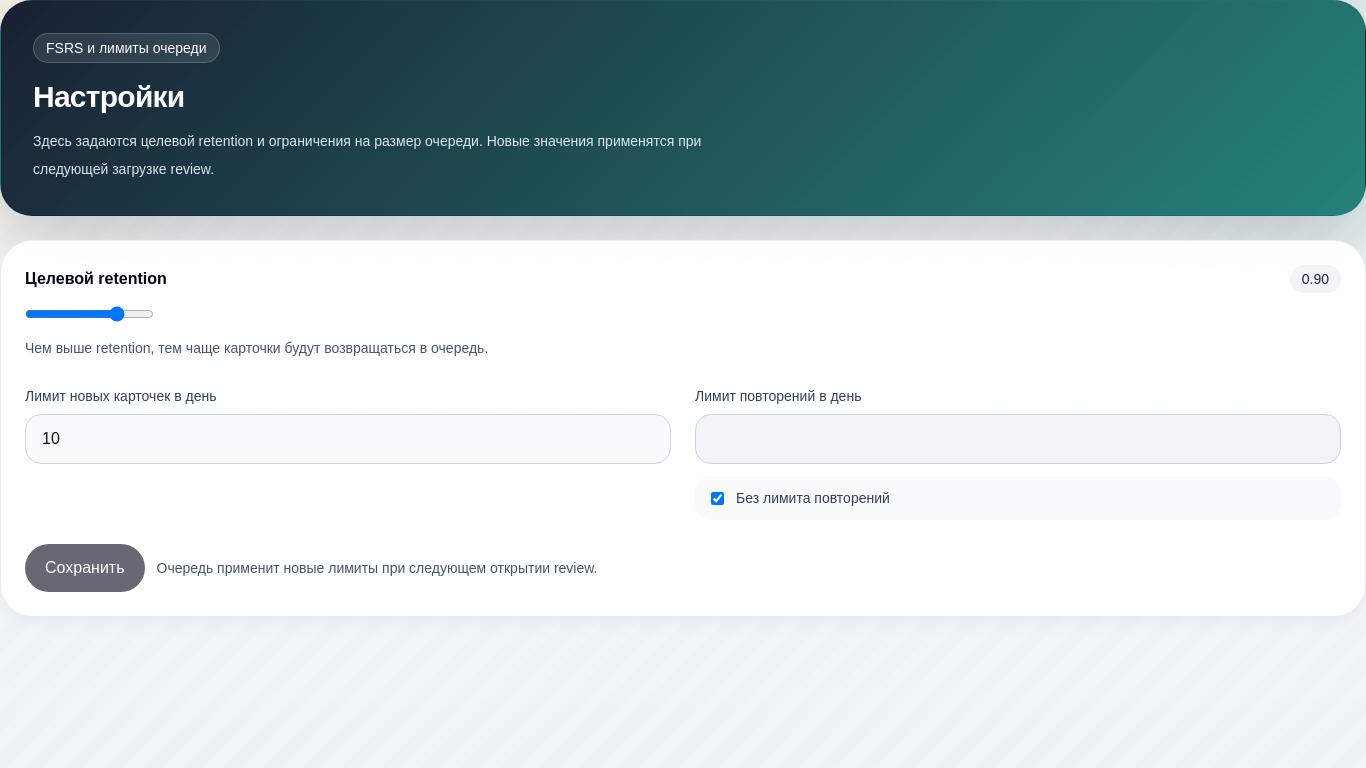
Test: SettingsPage › loads current settings and saves edited values
The width and height of the screenshot is (1366, 768).
Expected: the heading "Настройки" is shown, [33,80,184,113]
Expected: the button "Сохранить" is disabled, [25,544,144,592]
Replace the text in the number field labelled "Лимит новых карточек в день" with "4". click: (348, 439)
box: [25,414,671,464]
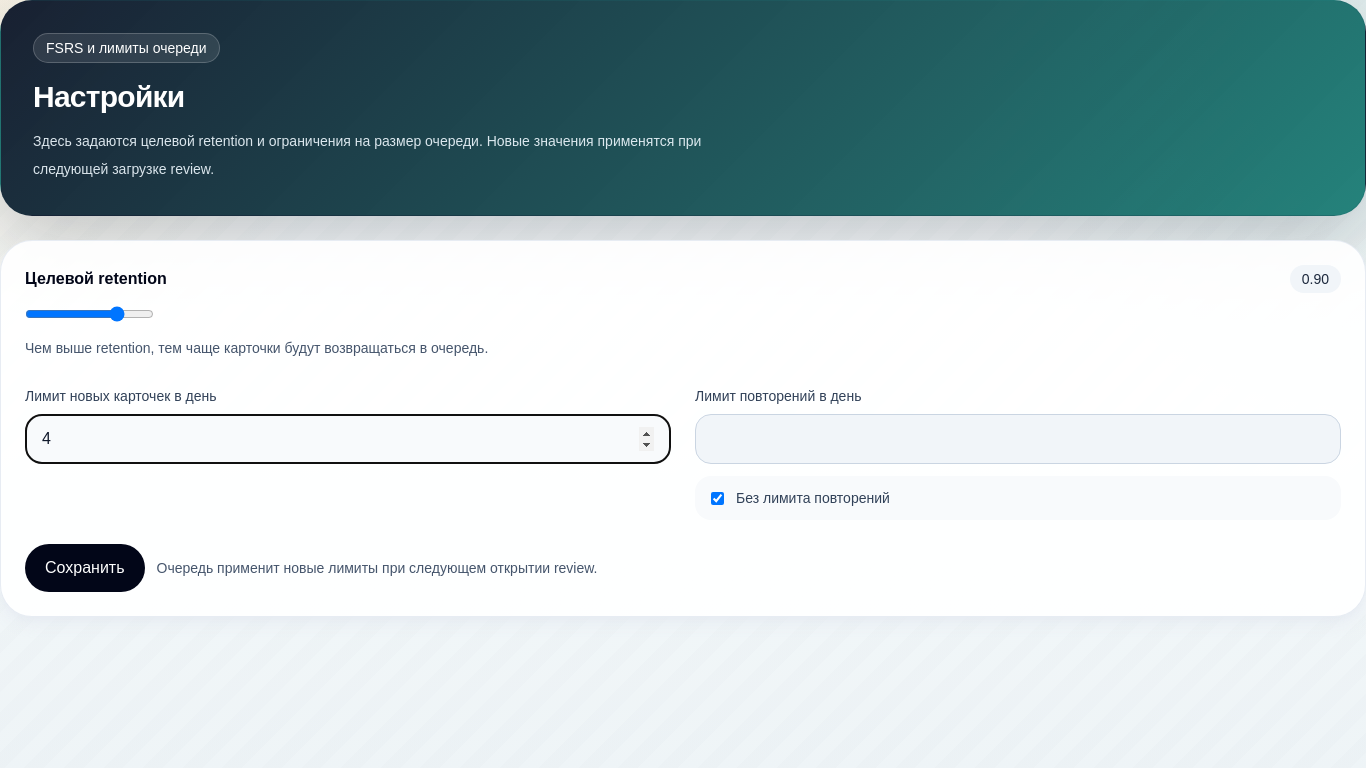
Click the checkbox labelled "Без лимита повторений". click: (718, 498)
box: [711,492,724,504]
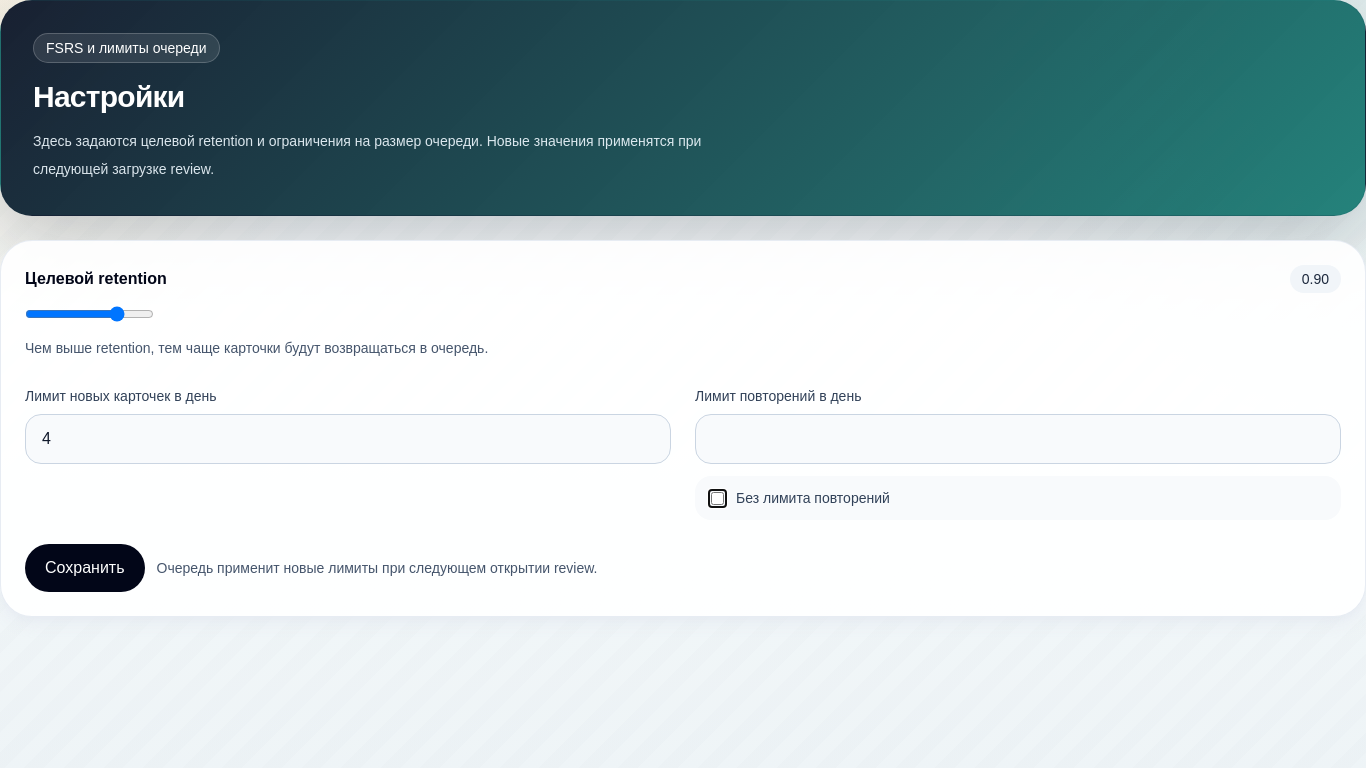
Type "20" into the number field labelled "Лимит повторений в день". click: (1018, 439)
box: [695,414,1341,464]
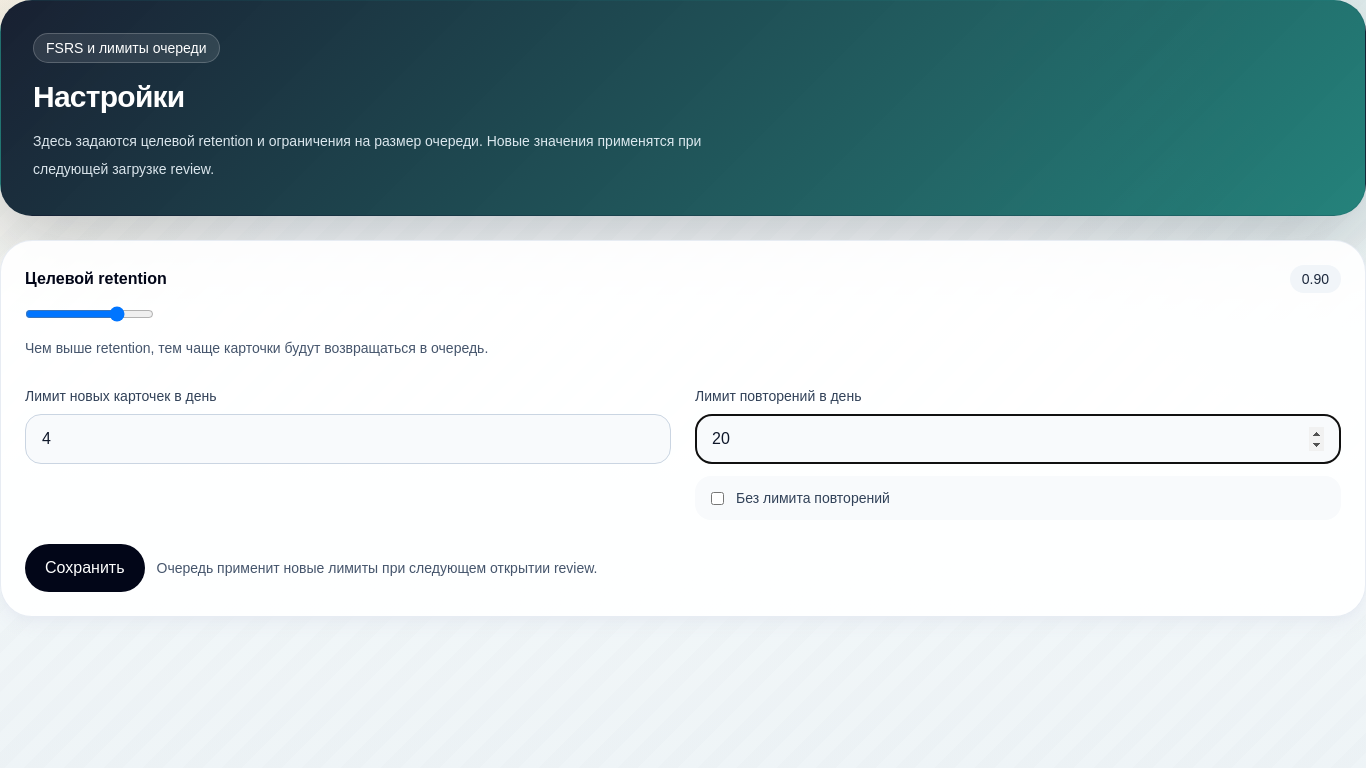
Set the slider labelled "Целевой retention" to "0.83". click: (87, 314)
box: [25,306,154,322]
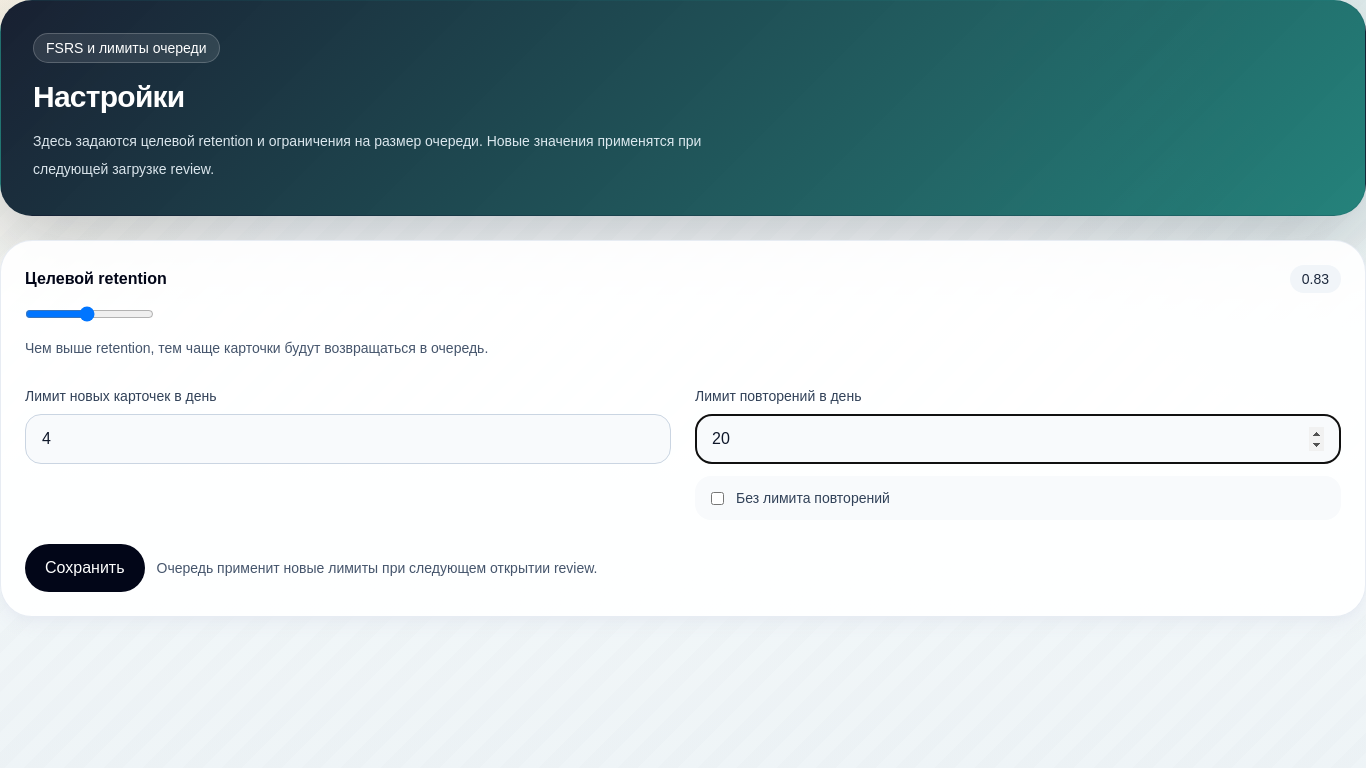
Click the button "Сохранить". click: (85, 568)
box: [25,544,144,592]
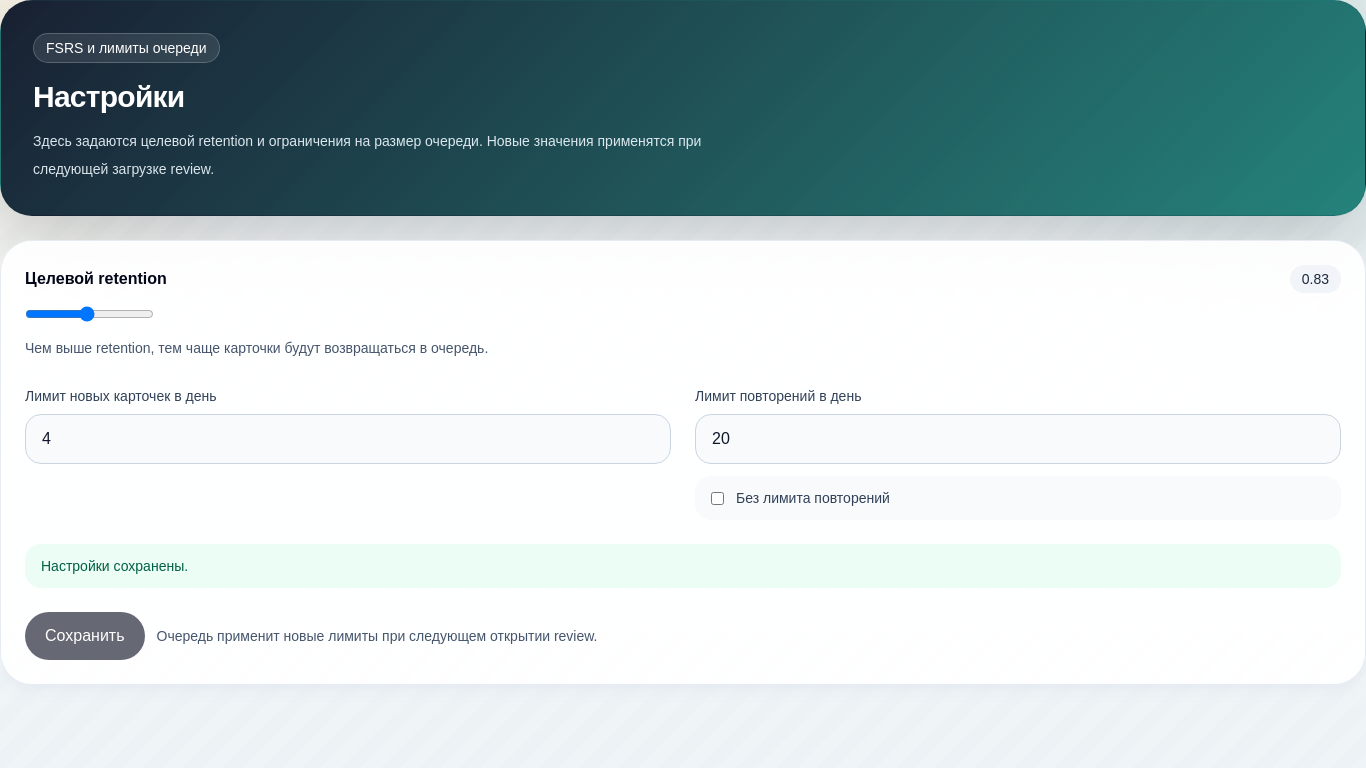
Expected: the text "Настройки сохранены." is shown, [25,544,1341,588]
